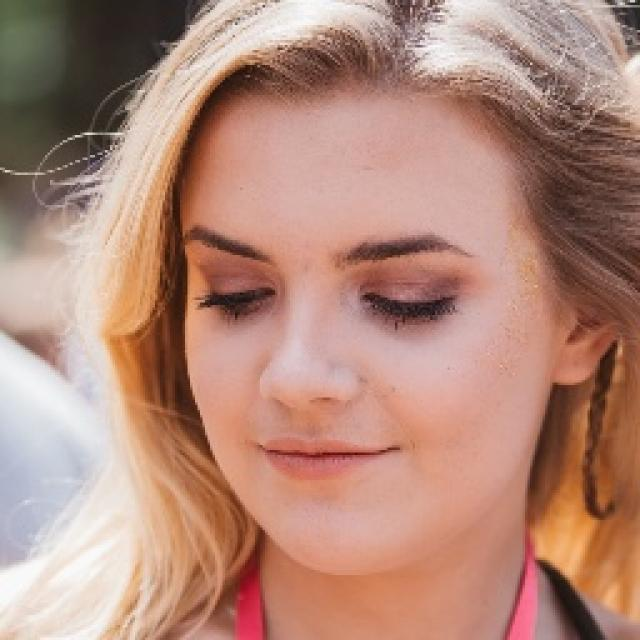earlobe: (551, 338, 595, 388)
eye: (359, 285, 456, 320), (207, 282, 276, 308)
nose: (259, 387, 360, 429)
wholeear: (551, 278, 626, 389)
